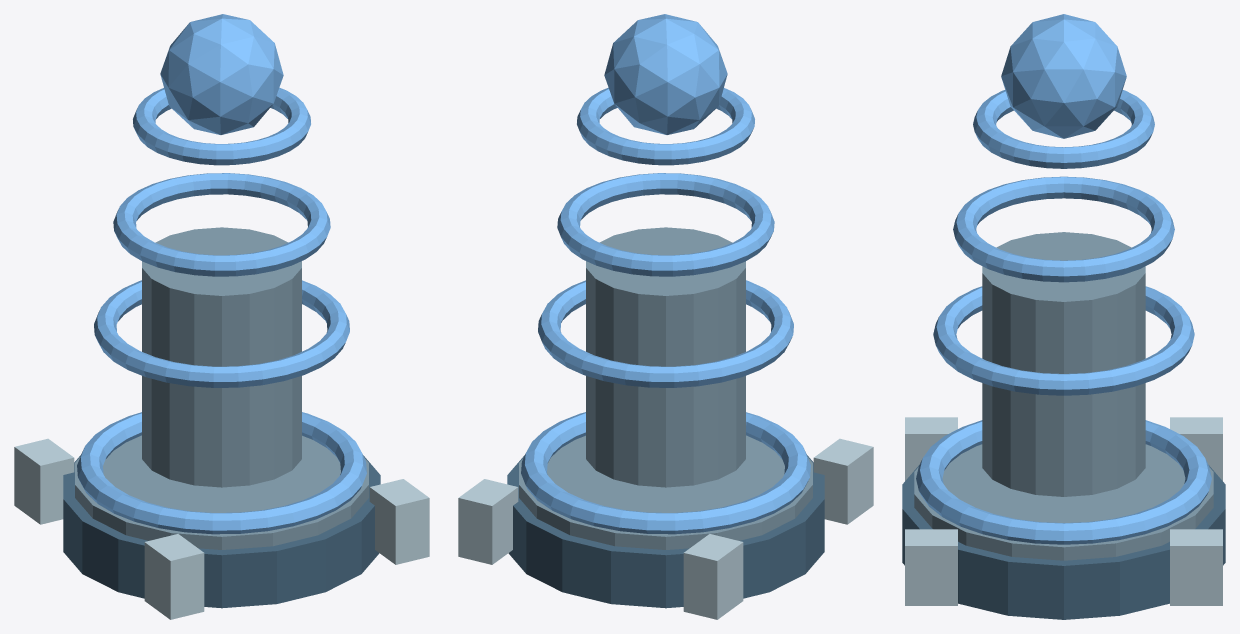
File: volt_sentinel.glb
The picture shows the model from 3 angles, left to right: view 1: azimuth 30°, elevation 25°; view 2: azimuth 150°, elevation 25°; view 3: azimuth 270°, elevation 25°; orthographic projection.
Parts seen in each view (by area): view 1: energy_column_7, pedestal_0, armor_ring_1, emitter_sphere_11, energy_ring_2, power_coil_9, power_coil_8, power_coil_10, bolt_5, bolt_6, bolt_3; view 2: energy_column_7, pedestal_0, armor_ring_1, emitter_sphere_11, energy_ring_2, power_coil_9, power_coil_8, power_coil_10, bolt_3, bolt_4, bolt_5; view 3: energy_column_7, pedestal_0, armor_ring_1, emitter_sphere_11, energy_ring_2, power_coil_9, power_coil_8, power_coil_10, bolt_4, bolt_6, bolt_3, bolt_5.
Boxes of the visible parts, x1,y1,x2,y2 form: energy_column_7: (142, 227, 301, 487); pedestal_0: (63, 455, 380, 608); armor_ring_1: (75, 435, 368, 549); emitter_sphere_11: (160, 14, 283, 134); energy_ring_2: (77, 412, 366, 534); power_coil_9: (113, 173, 330, 276); power_coil_8: (94, 280, 349, 387); power_coil_10: (133, 87, 310, 165); bolt_5: (144, 534, 204, 619); bolt_6: (369, 479, 429, 564); bolt_3: (14, 438, 74, 524); energy_column_7: (586, 227, 745, 487); pedestal_0: (507, 455, 824, 608); armor_ring_1: (519, 435, 812, 549); emitter_sphere_11: (604, 14, 727, 134); energy_ring_2: (521, 412, 810, 534); power_coil_9: (557, 173, 774, 276); power_coil_8: (538, 280, 793, 387); power_coil_10: (577, 87, 754, 165); bolt_3: (683, 534, 743, 619); bolt_4: (458, 479, 518, 564); bolt_5: (813, 438, 873, 524); energy_column_7: (982, 232, 1145, 496); pedestal_0: (902, 465, 1225, 619); armor_ring_1: (914, 444, 1213, 560); emitter_sphere_11: (1001, 14, 1126, 138); energy_ring_2: (916, 420, 1211, 544); power_coil_9: (953, 176, 1174, 282); power_coil_8: (933, 286, 1194, 395); power_coil_10: (973, 90, 1154, 168); bolt_4: (1170, 529, 1222, 605); bolt_6: (905, 529, 957, 605); bolt_3: (1170, 417, 1222, 480); bolt_5: (905, 417, 957, 480).
Bounding box in the file's own units: 0.9916 × 1.77 × 0.9765.
